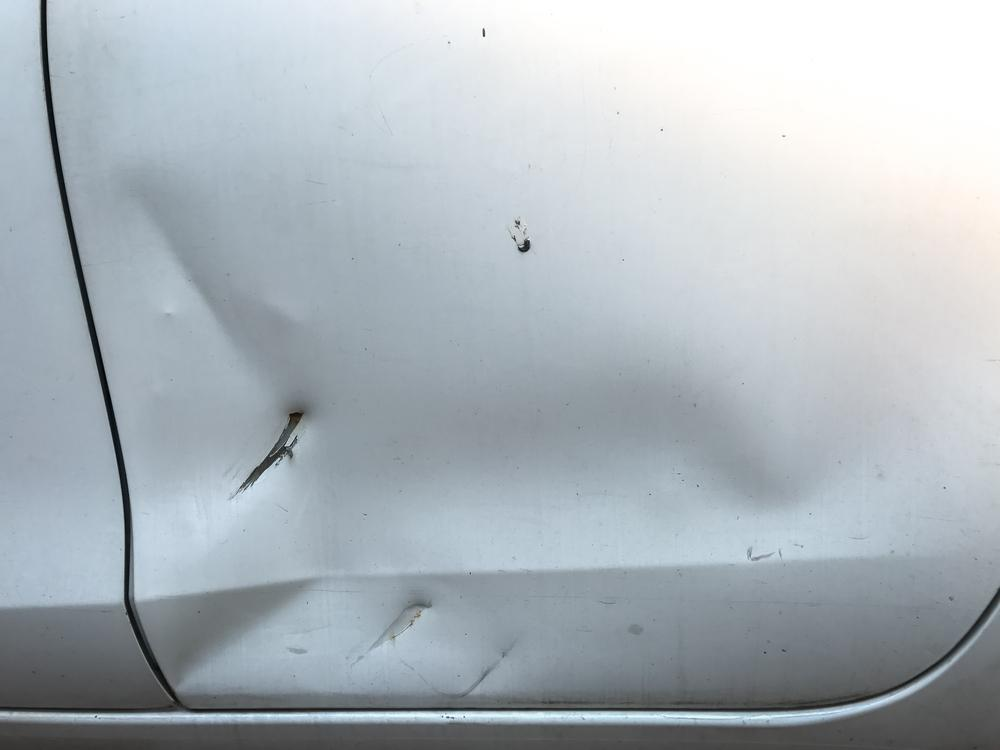dent: (112, 167, 1000, 693)
